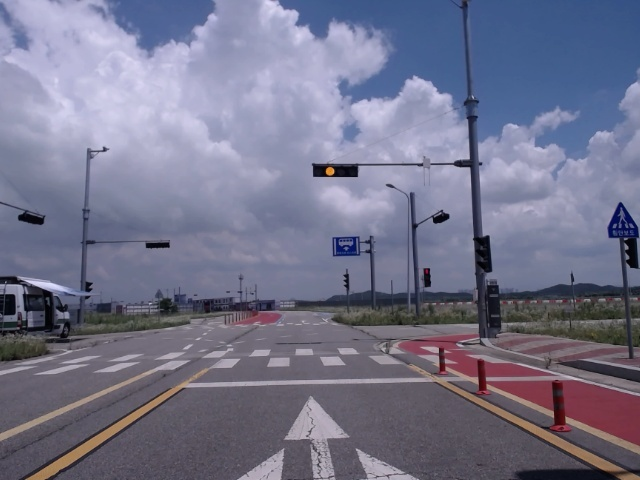orange_4: (314, 164, 358, 177)
